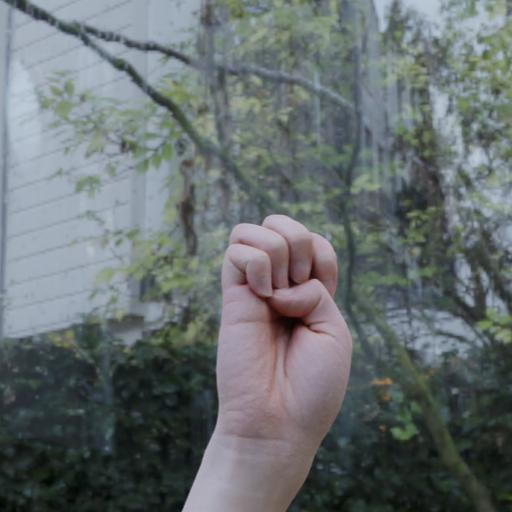E: (200, 200, 376, 440)
